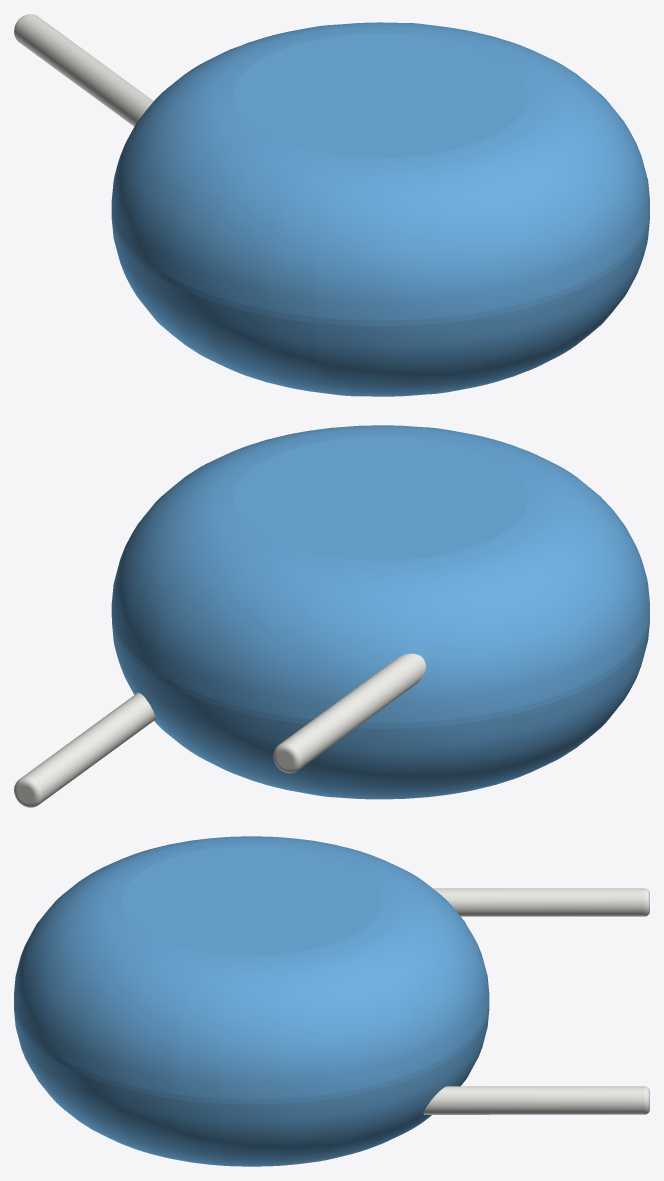
The model's file is RV_Disc_D9mm_W4.2mm_P5mm.glb.
The picture shows the model from 3 angles, top to bottom: view 1: azimuth 30°, elevation 25°; view 2: azimuth 150°, elevation 25°; view 3: azimuth 270°, elevation 25°; orthographic projection. The views are drawn at different scales.
Parts seen in each view (by area): view 1: Shape_IndexedFaceSet.001, Shape_IndexedFaceSet.002, Shape_IndexedFaceSet.003, Shape_IndexedFaceSet.004, Shape_IndexedFaceSet; view 2: Shape_IndexedFaceSet.001, Shape_IndexedFaceSet.002, Shape_IndexedFaceSet.003, Shape_IndexedFaceSet.004, Shape_IndexedFaceSet.006, Shape_IndexedFaceSet; view 3: Shape_IndexedFaceSet.001, Shape_IndexedFaceSet.002, Shape_IndexedFaceSet.003, Shape_IndexedFaceSet.006, Shape_IndexedFaceSet.004, Shape_IndexedFaceSet.
Part boxes in pixels (<box>): Shape_IndexedFaceSet.001: <box>111,22,649,320</box>; Shape_IndexedFaceSet.002: <box>111,219,649,396</box>; Shape_IndexedFaceSet.003: <box>234,33,527,157</box>; Shape_IndexedFaceSet.004: <box>15,14,153,126</box>; Shape_IndexedFaceSet: <box>111,214,649,326</box>; Shape_IndexedFaceSet.001: <box>111,425,649,723</box>; Shape_IndexedFaceSet.002: <box>112,622,649,799</box>; Shape_IndexedFaceSet.003: <box>234,436,527,560</box>; Shape_IndexedFaceSet.004: <box>279,653,425,769</box>; Shape_IndexedFaceSet.006: <box>21,692,155,803</box>; Shape_IndexedFaceSet: <box>111,612,649,728</box>; Shape_IndexedFaceSet.001: <box>14,836,489,1099</box>; Shape_IndexedFaceSet.002: <box>14,1010,489,1166</box>; Shape_IndexedFaceSet.003: <box>122,846,381,955</box>; Shape_IndexedFaceSet.006: <box>423,1086,644,1114</box>; Shape_IndexedFaceSet.004: <box>433,888,644,916</box>; Shape_IndexedFaceSet: <box>14,1005,489,1104</box>.
Size of the model in its own units: 3.54 by 1.65 by 4.73.
